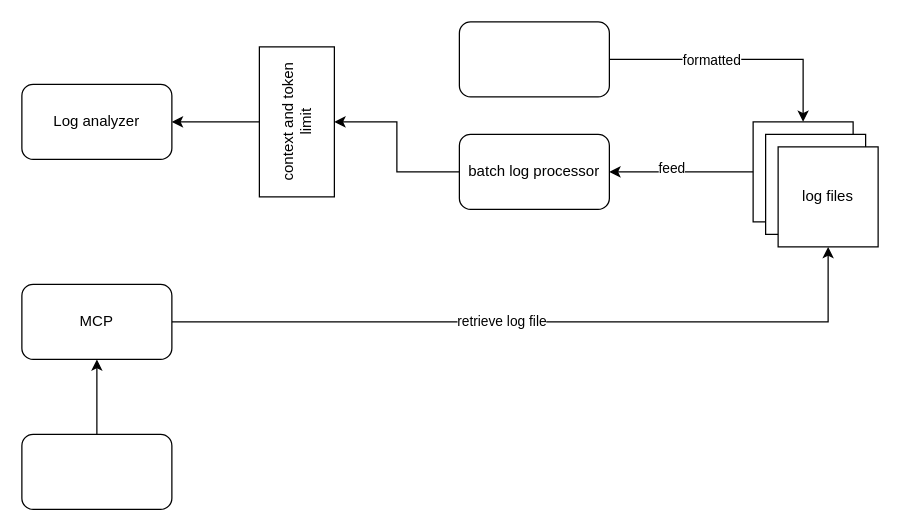
This 900x531 diagram has some shape labels left out. Here are the shapes that lost their labels. From the top down, the box of each, then its label:
(458, 21, 609, 97): log formatter
(21, 433, 172, 509): Log fetcher
